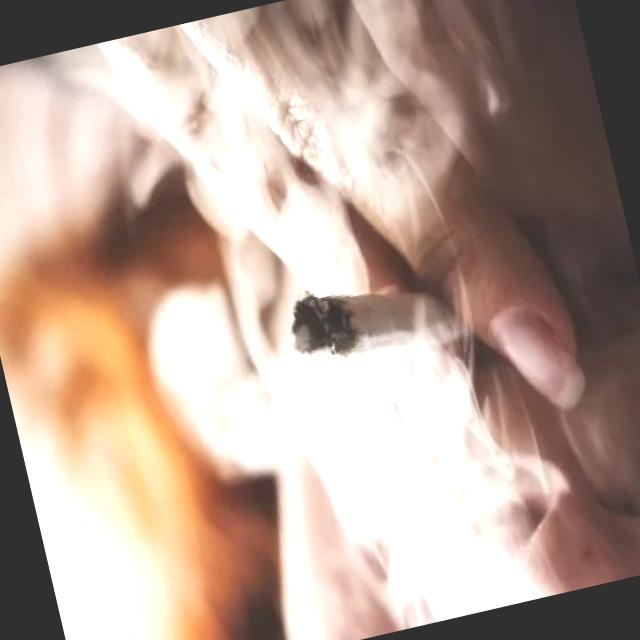smoke: (278, 252, 492, 394)
